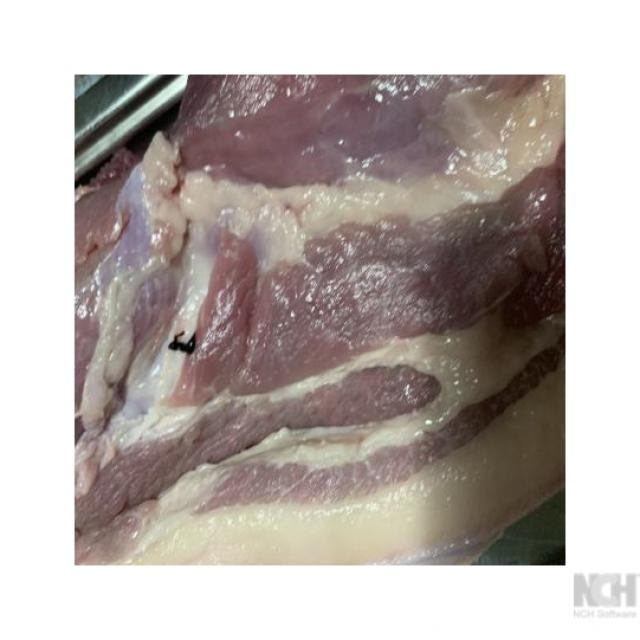rotten meat: (52, 51, 583, 570)
